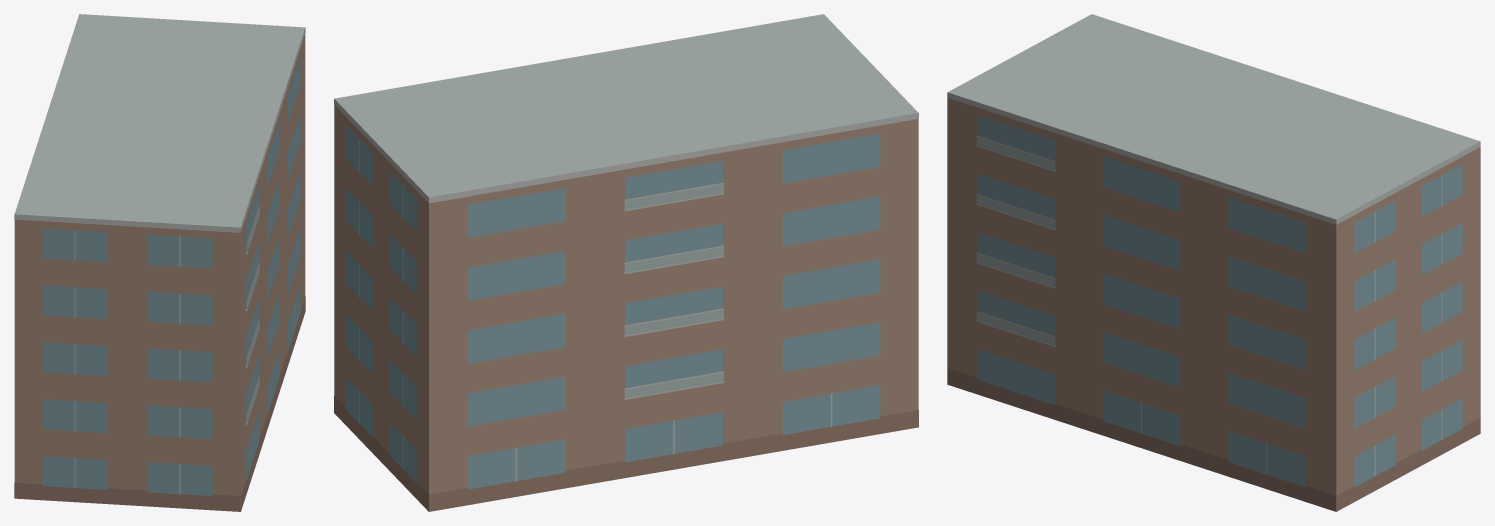
File: survey-upis-32657189.glb
3 renders of one model, left to right at view 1: azimuth 30°, elevation 25°; view 2: azimuth 150°, elevation 25°; view 3: azimuth 270°, elevation 25°, orthographic. The views are drawn at different scales.
Parts seen in each view (by area): view 1: survey-upis-32657189.tmp; view 2: survey-upis-32657189.tmp; view 3: survey-upis-32657189.tmp.
Boxes of the visible parts, box(x1,y1,x2,y2) form: survey-upis-32657189.tmp: box(14, 14, 305, 511); survey-upis-32657189.tmp: box(334, 14, 918, 511); survey-upis-32657189.tmp: box(947, 14, 1480, 511).
Size of the model in its own units: 19.93 by 13.2 by 21.84.
